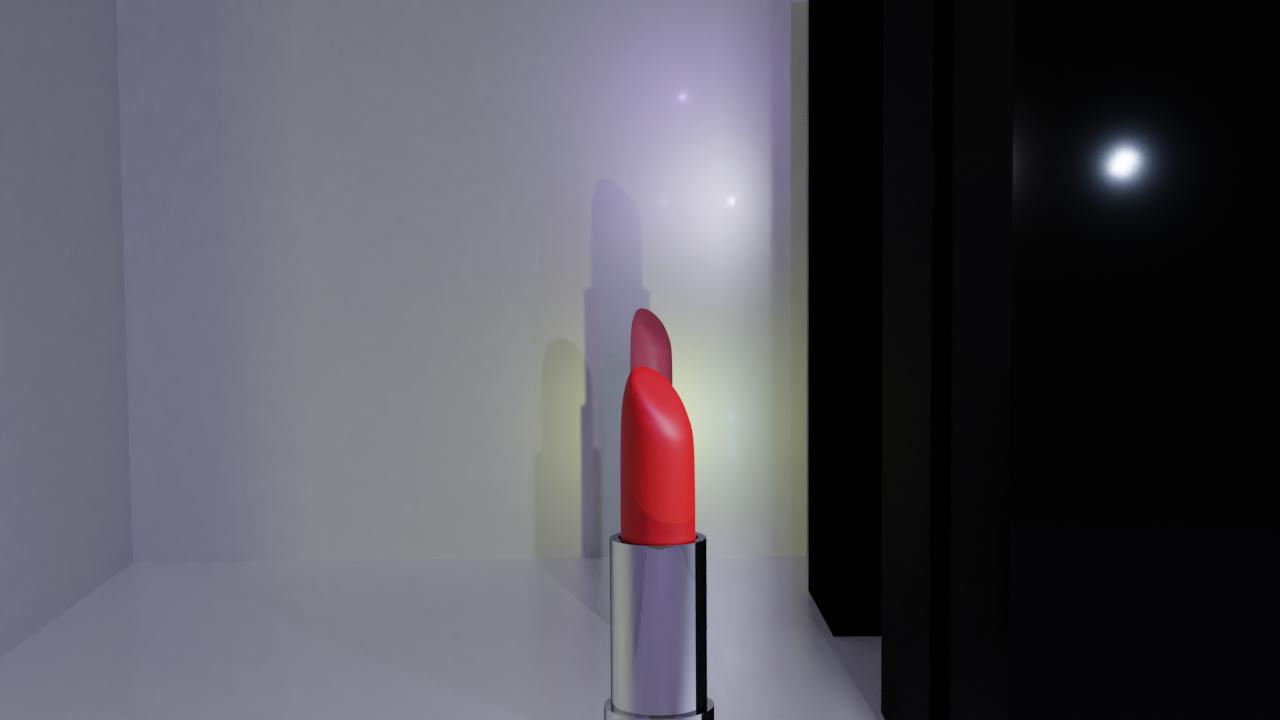CLASSIFIER_NAME: (603, 359, 716, 720)
